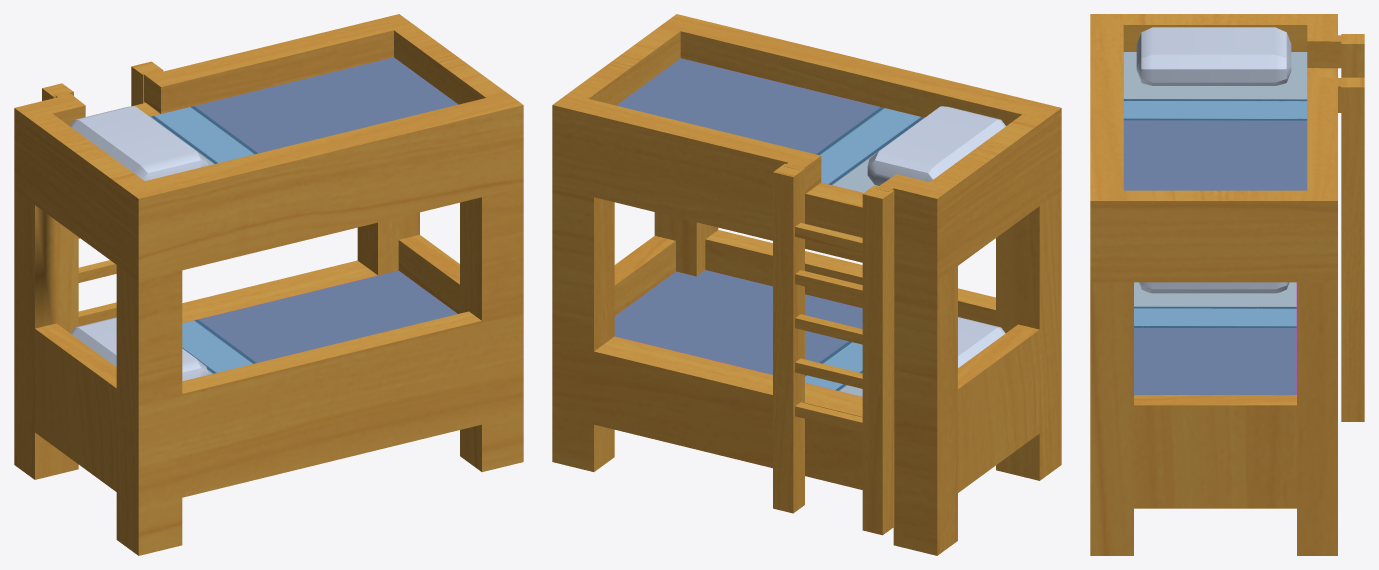
File: bunkbed.fbx
3 views of the same model, side by side, from view 1: azimuth 30°, elevation 25°; view 2: azimuth 150°, elevation 25°; view 3: azimuth 270°, elevation 25° (orthographic).
Parts seen in each view (by area): view 1: pCube22; view 2: pCube22; view 3: pCube22.
Boxes of the visible parts, box(x1,y1,x2,y2) form: pCube22: box(14, 14, 523, 555); pCube22: box(552, 14, 1061, 555); pCube22: box(1090, 14, 1364, 555).
Bounding box in the file's own units: 40.18 × 35.88 × 24.92.
Materials: 1 (1 with a texture image).
